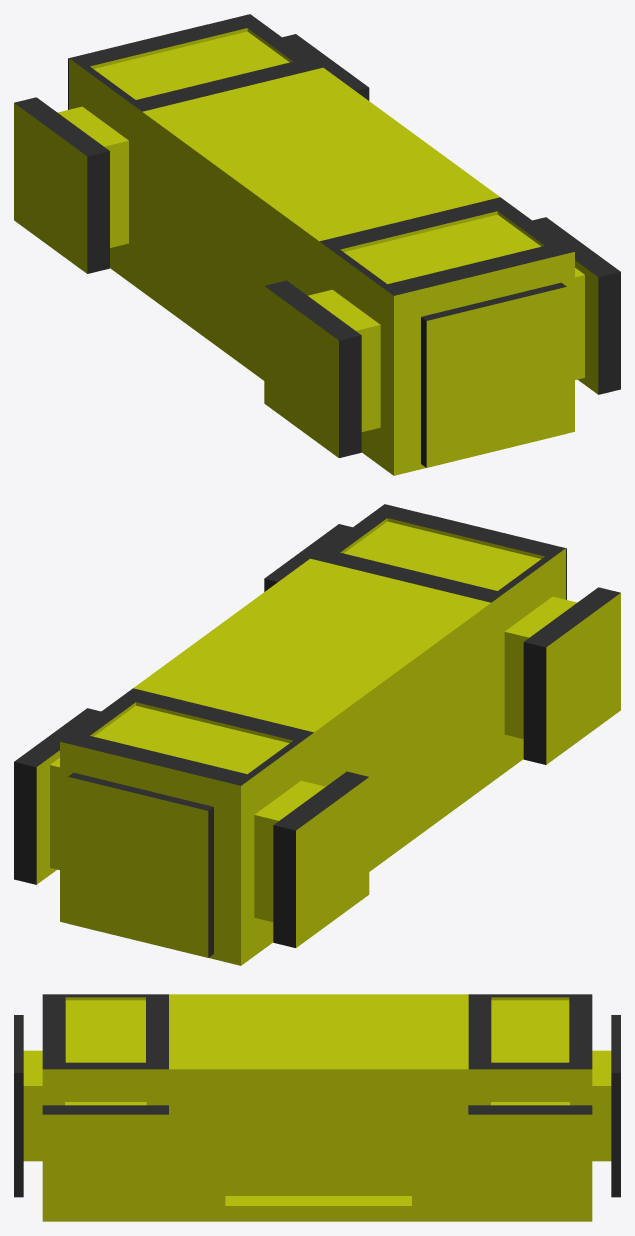
File: push.fbx
3 views of the same model, one above another, from view 1: azimuth 30°, elevation 25°; view 2: azimuth 150°, elevation 25°; view 3: azimuth 270°, elevation 25° (orthographic). The views are drawn at different scales.
Visible parts, largest first — view 1: Cube; view 2: Cube; view 3: Cube.
Boxes of the visible parts, x1,y1,x2,y2 form: Cube: [14, 14, 620, 475]; Cube: [14, 504, 620, 965]; Cube: [14, 994, 620, 1221].
Size of the model in its own units: 440 by 268 by 968.
